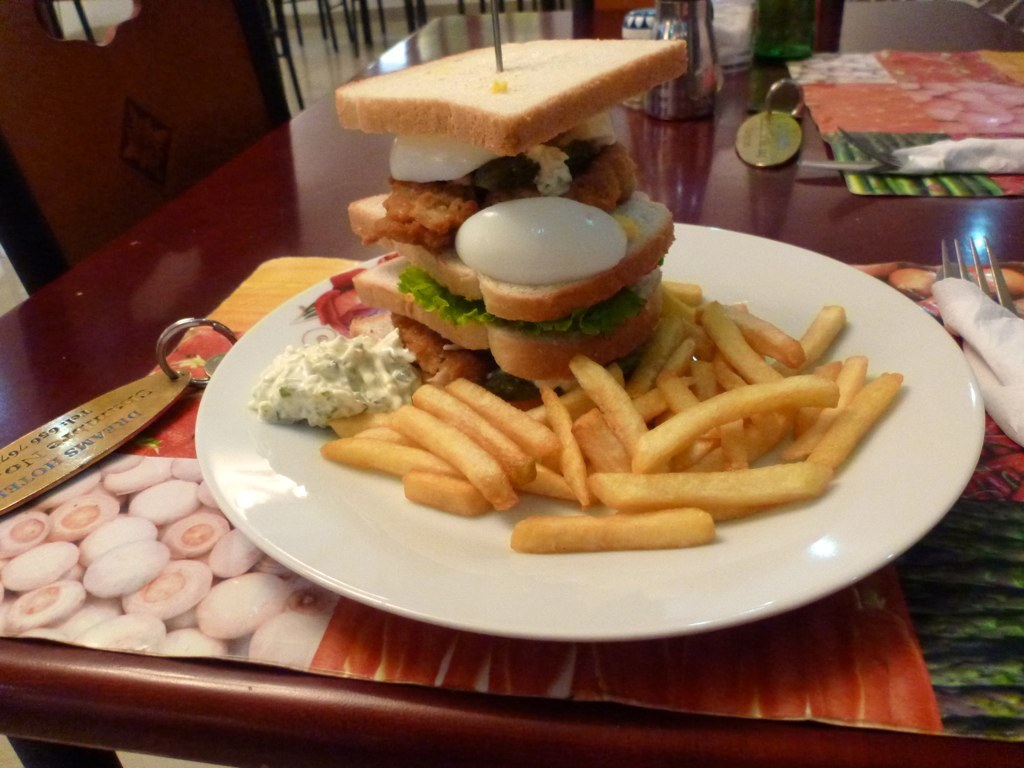French fries: (302, 272, 908, 552)
